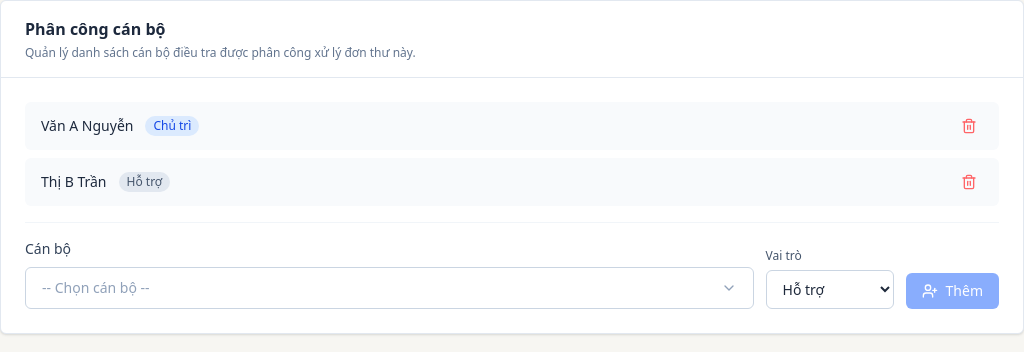
Test case: PetitionAssignmentSection › I-F7: xóa phân công thành công → xóa khỏi danh sách
Step 1. Click the button with test id "btn-remove-assignment-user-1" → (969, 126), box [955,112,983,140]
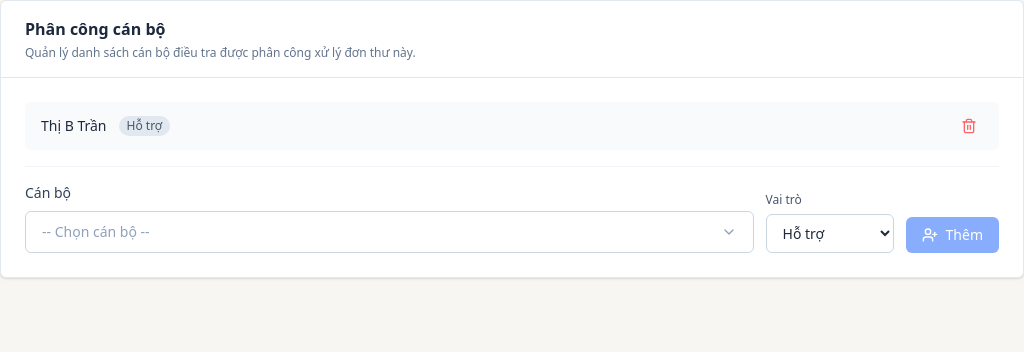
Check: the text with test id "assignment-role-user-1" is gone
